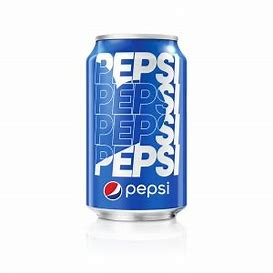Pepsi: (84, 34, 188, 224)
